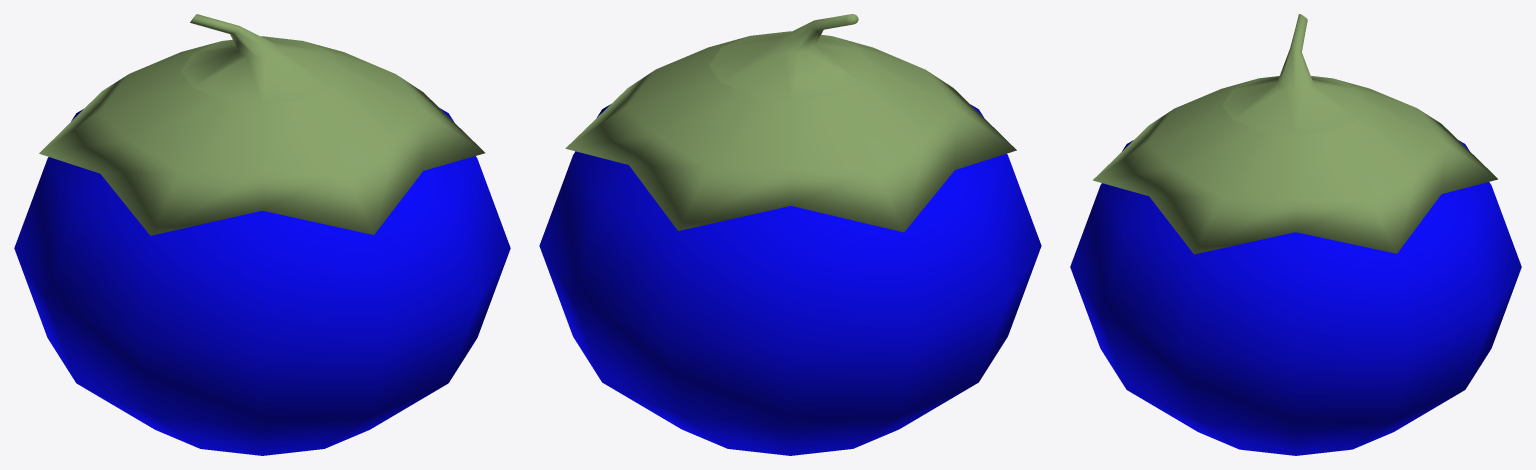
Rendered from blue-fruit.fbx.
3 views of the same model, side by side, from view 1: azimuth 30°, elevation 25°; view 2: azimuth 150°, elevation 25°; view 3: azimuth 270°, elevation 25° (orthographic). The views are drawn at different scales.
Visible parts, largest first — view 1: polySurface1; view 2: polySurface1; view 3: polySurface1.
Part boxes in pixels (<box>): polySurface1: <box>14,14,510,455</box>; polySurface1: <box>539,14,1041,455</box>; polySurface1: <box>1070,14,1521,455</box>.
Bounding box in the file's own units: 16.21 × 15.34 × 16.21.
